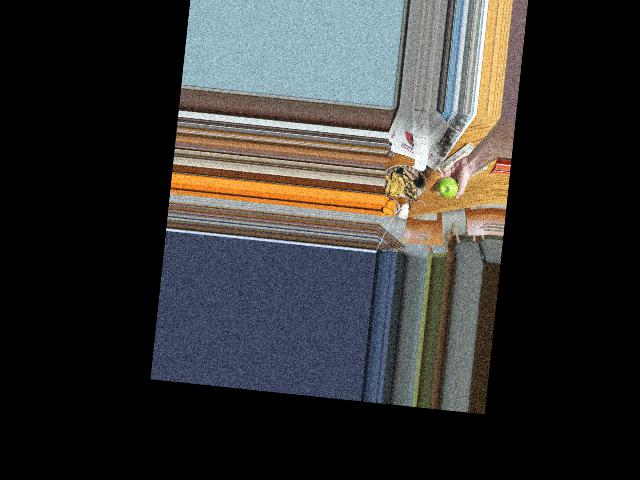apple: (435, 170, 457, 200)
